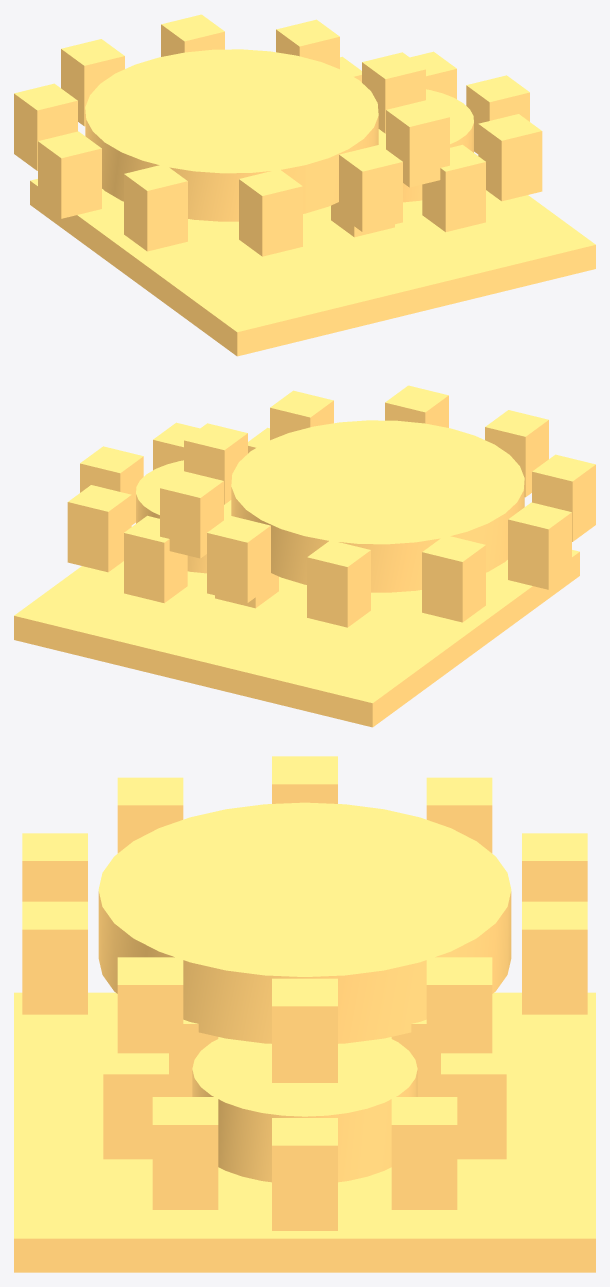
3 views of the same model, one above another, from view 1: azimuth 30°, elevation 25°; view 2: azimuth 150°, elevation 25°; view 3: azimuth 270°, elevation 25° (orthographic). The views are drawn at different scales.
Bounding box in the file's own units: 0.81 × 0.25 × 0.6201.
